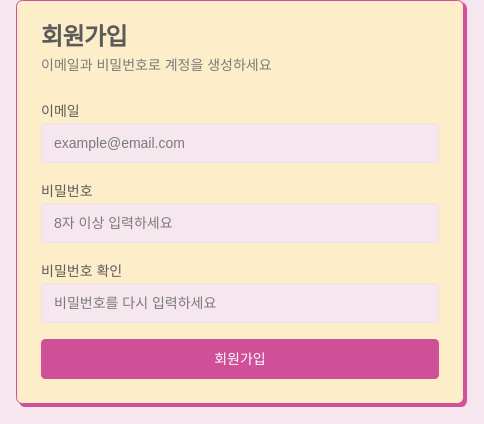
SignupForm › 로딩 중일 때 버튼이 비활성화된다
Type "test@example.com" into the field labelled "이메일" at (240, 143), box top-left (41, 123), bottom-right (439, 163)
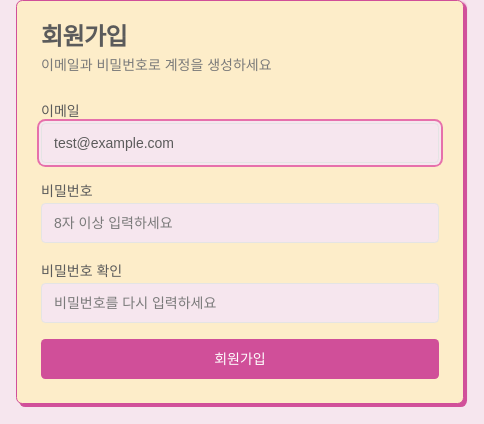
Type "password123" into the password field labelled "비밀번호" at (240, 223), box top-left (41, 203), bottom-right (439, 243)
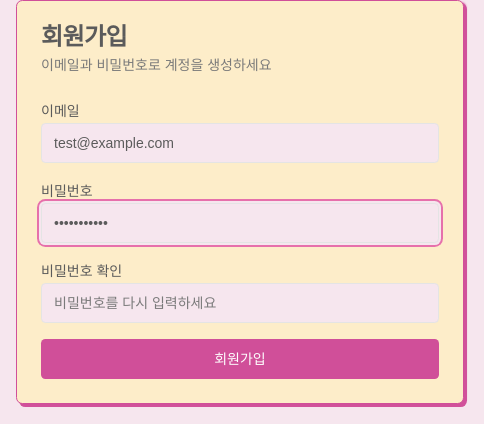
Type "password123" into the password field labelled "비밀번호 확인" at (240, 303), box top-left (41, 283), bottom-right (439, 323)
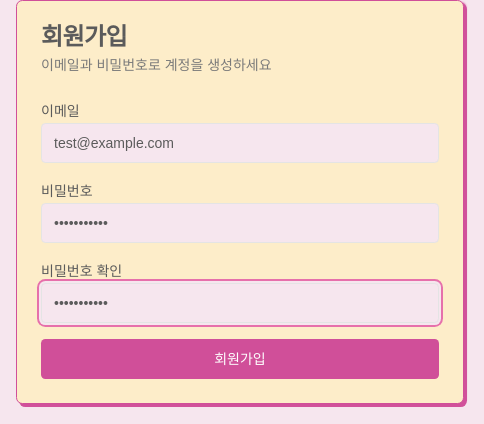
Click the button "회원가입" at (240, 359), box top-left (41, 339), bottom-right (439, 379)
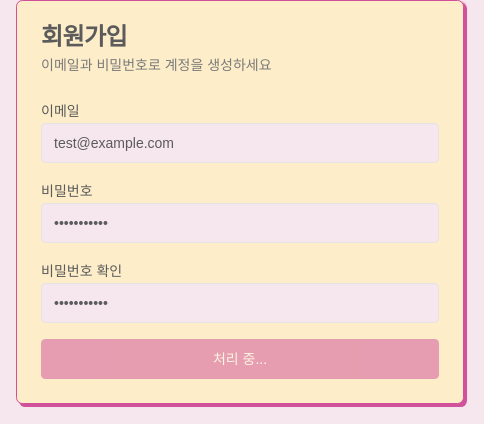
Check: the button "처리 중..." is disabled, box top-left (41, 339), bottom-right (439, 379)
